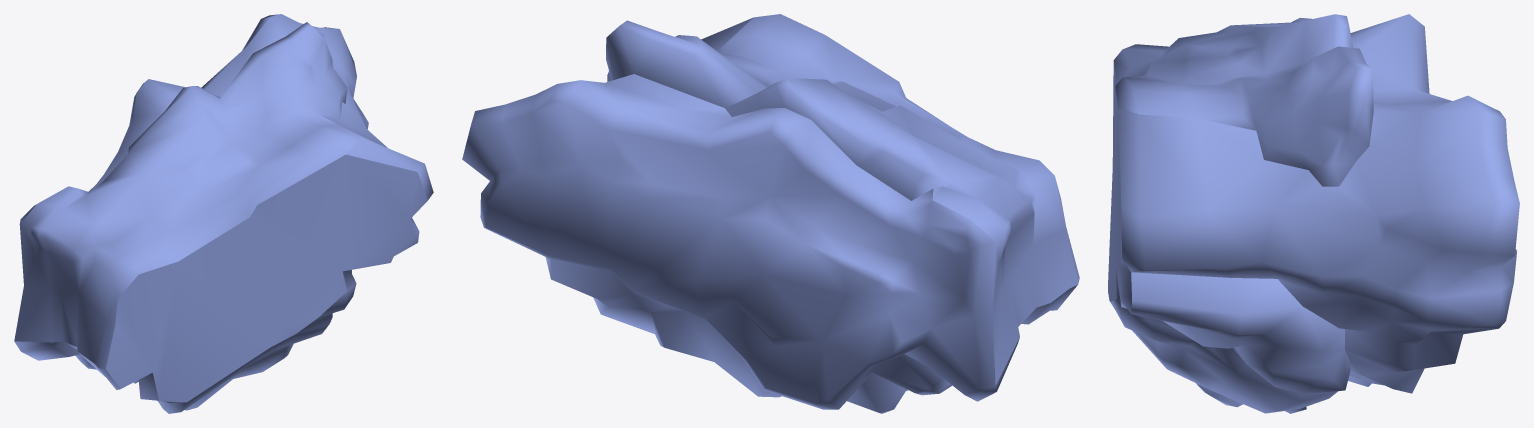
The model's file is Rock_003.FBX.
The picture shows the model from 3 angles, left to right: view 1: azimuth 30°, elevation 25°; view 2: azimuth 150°, elevation 25°; view 3: azimuth 270°, elevation 25°; orthographic projection. The views are drawn at different scales.
Visible parts, largest first — view 1: Rock_003_LOD0; view 2: Rock_003_LOD0; view 3: Rock_003_LOD0.
Part boxes in pixels (x1,y1,x2,y2): Rock_003_LOD0: [14, 14, 433, 413]; Rock_003_LOD0: [462, 14, 1079, 413]; Rock_003_LOD0: [1108, 14, 1519, 413].
Size of the model in its own units: 248 by 162 by 184.
